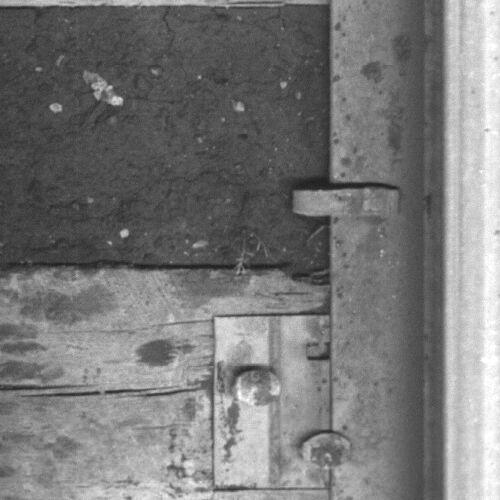crutch: (292, 185, 402, 219)
do: (212, 314, 353, 490)
rail: (442, 1, 500, 500)
tie_wood: (1, 272, 331, 500)
wood_crack: (1, 379, 207, 404)
